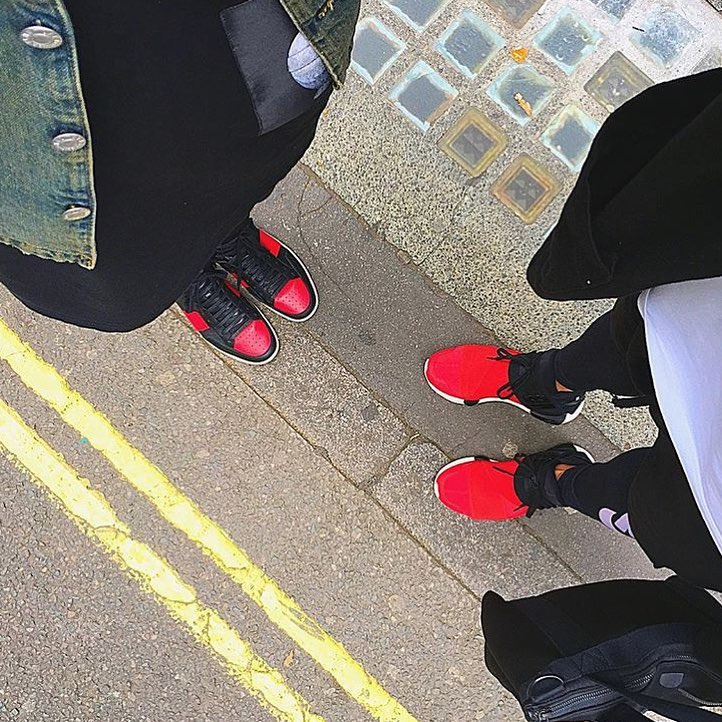sneaker: (413, 313, 600, 436), (424, 430, 607, 541), (161, 252, 289, 388), (200, 207, 336, 331)
